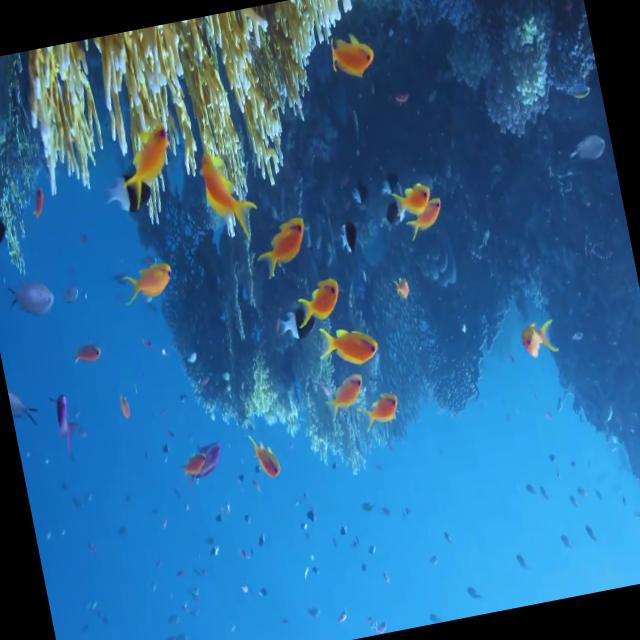fish: (111, 128, 182, 214), (252, 218, 316, 284), (316, 314, 382, 376), (115, 264, 177, 316), (288, 276, 346, 331), (327, 26, 380, 83), (358, 394, 402, 434), (392, 185, 433, 226)
